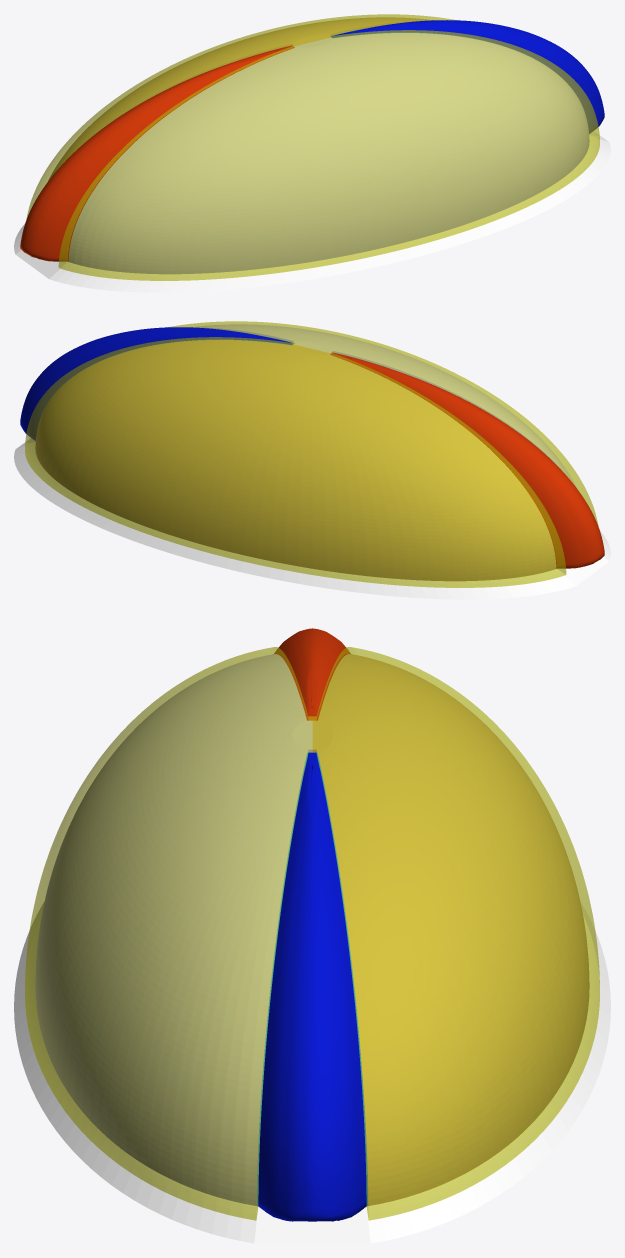
Rendered from stadium 8.fbx.
3 views of the same model, one above another, from view 1: azimuth 30°, elevation 25°; view 2: azimuth 150°, elevation 25°; view 3: azimuth 270°, elevation 25° (orthographic). The views are drawn at different scales.
Parts seen in each view (by area): view 1: dome, socle, redGoal, blueGoal; view 2: dome, socle, redGoal, blueGoal; view 3: dome, blueGoal, socle, redGoal, blueGoalLimits.
Part boxes in pixels (<box>): dome: <box>26,14,599,280</box>; socle: <box>14,131,610,292</box>; redGoal: <box>20,46,293,261</box>; blueGoal: <box>331,20,604,133</box>; dome: <box>25,321,598,587</box>; socle: <box>14,438,610,599</box>; redGoal: <box>331,353,604,568</box>; blueGoal: <box>20,327,293,440</box>; dome: <box>25,647,599,1220</box>; blueGoal: <box>258,752,366,1221</box>; socle: <box>14,902,610,1243</box>; redGoal: <box>274,628,350,720</box>; blueGoalLimits: <box>257,752,367,1206</box>.
Bounding box in the file's own units: 21.74 × 5.69 × 11.22.
